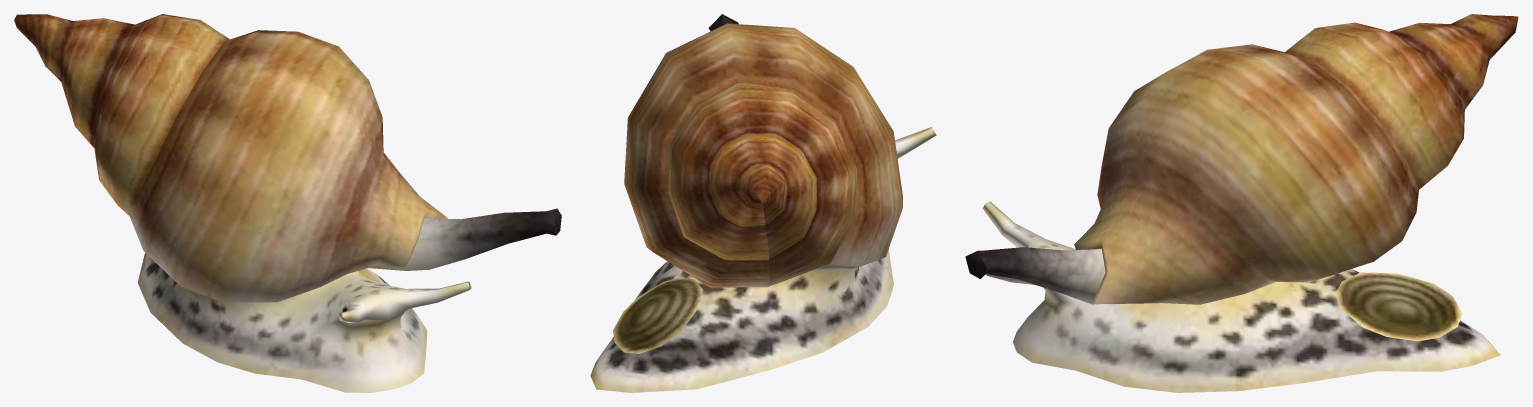
Rendered from shell-whelk.glb.
3 views of the same model, side by side, from view 1: azimuth 30°, elevation 25°; view 2: azimuth 150°, elevation 25°; view 3: azimuth 270°, elevation 25° (orthographic). The views are drawn at different scales.
Visible parts, largest first — view 1: DiveFishBaigai_node6; view 2: DiveFishBaigai_node6; view 3: DiveFishBaigai_node6.
Boxes of the visible parts, x1,y1,x2,y2 form: DiveFishBaigai_node6: (14, 14, 561, 392); DiveFishBaigai_node6: (590, 14, 936, 392); DiveFishBaigai_node6: (965, 14, 1518, 392).
Bounding box in the file's own units: 0.2726 × 0.2324 × 0.4045.
Materials: 1 (1 with a texture image).
